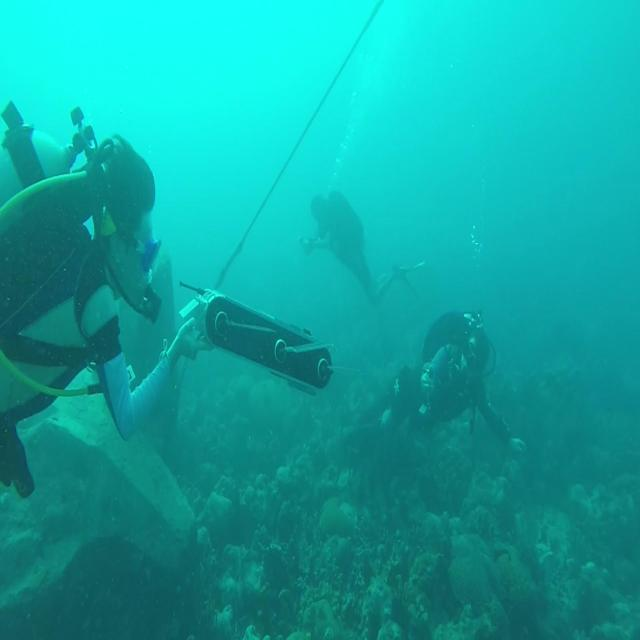human: (1, 131, 212, 498), (351, 308, 526, 455), (299, 187, 425, 308)
